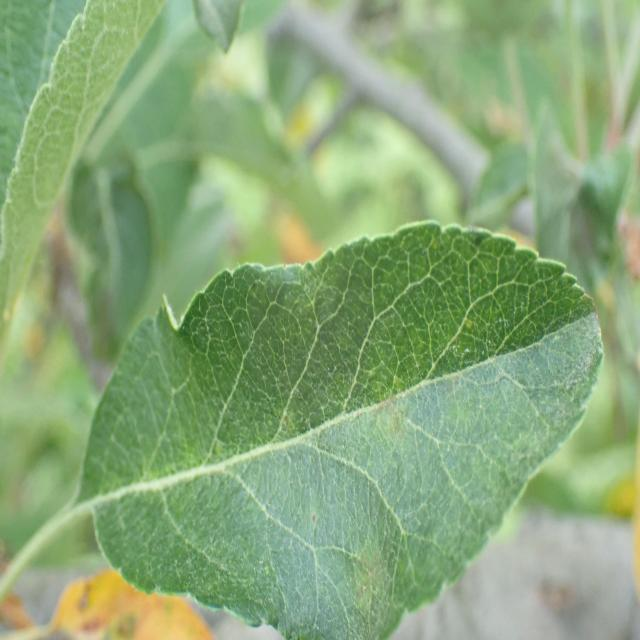scab: (95, 303, 571, 621)
